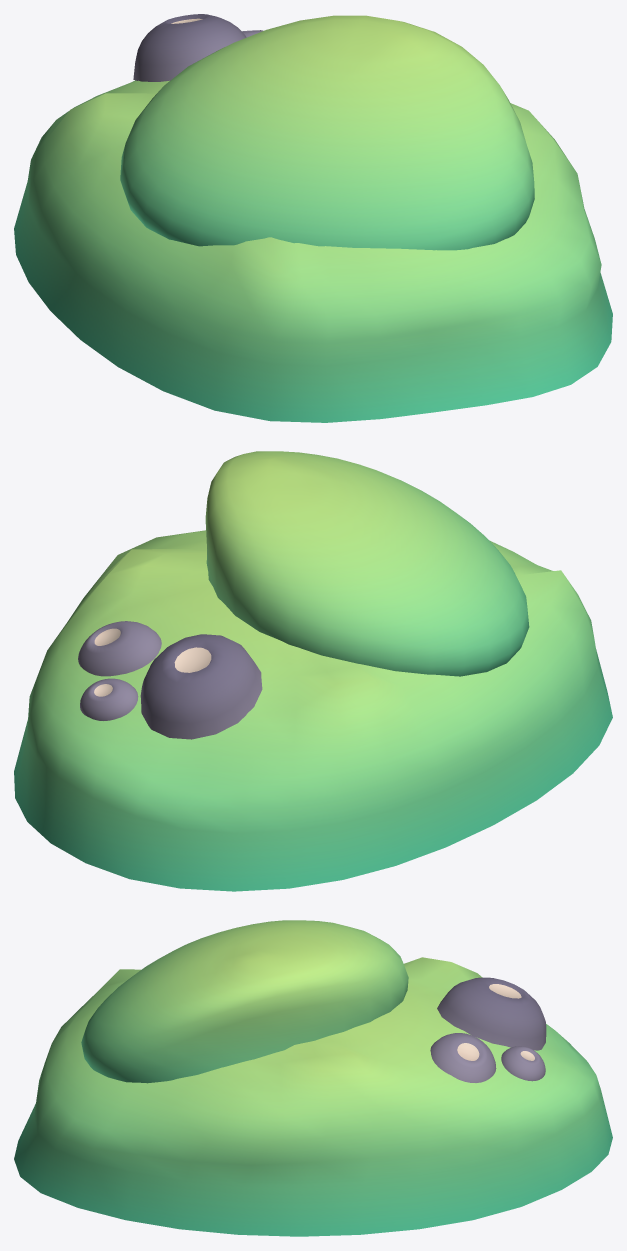
The model's file is Green_Rock.fbx.
The picture shows the model from 3 angles, top to bottom: view 1: azimuth 30°, elevation 25°; view 2: azimuth 150°, elevation 25°; view 3: azimuth 270°, elevation 25°; orthographic projection. The views are drawn at different scales.
Parts seen in each view (by area): view 1: Sphere; view 2: Sphere; view 3: Sphere.
Part boxes in pixels (box(x1,y1,x2,y2)): Sphere: box(14, 14, 612, 422); Sphere: box(14, 451, 612, 891); Sphere: box(14, 920, 612, 1236).
Size of the model in its own units: 677 by 345 by 895.
